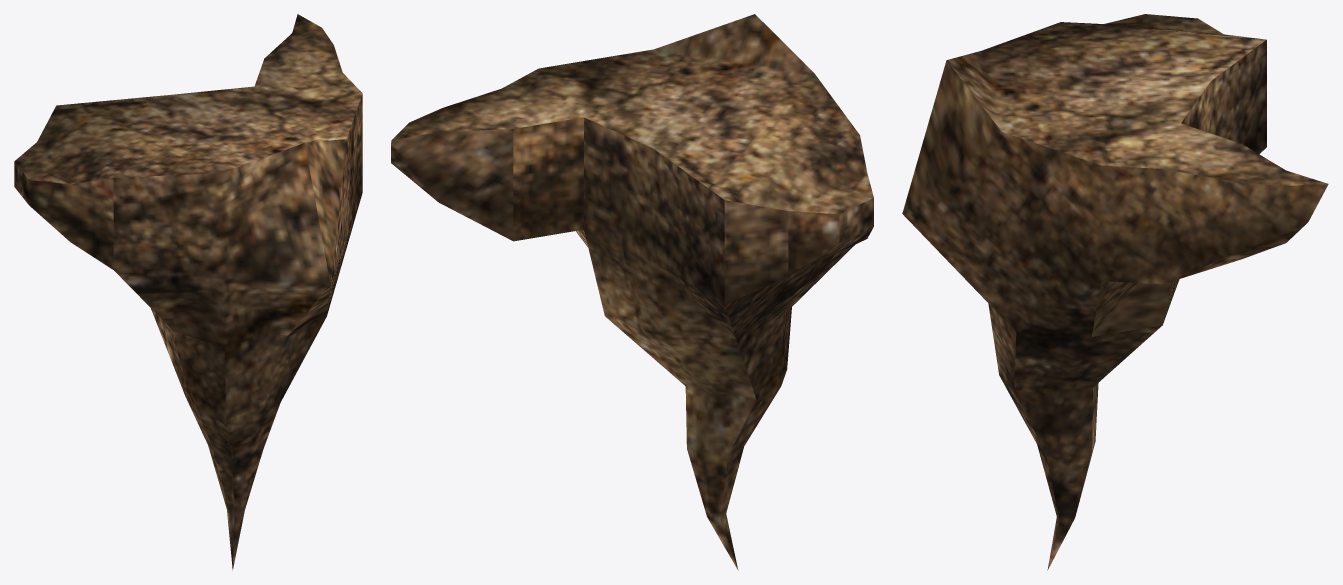
The model's file is mysthomeRock1.obj.
3 views of the same model, side by side, from view 1: azimuth 30°, elevation 25°; view 2: azimuth 150°, elevation 25°; view 3: azimuth 270°, elevation 25° (orthographic). The views are drawn at different scales.
Visible parts, largest first — view 1: Landsmaller_Cube.027; view 2: Landsmaller_Cube.027; view 3: Landsmaller_Cube.027.
Part boxes in pixels (x1=…): Landsmaller_Cube.027: x1=14, y1=14, x2=362, y2=570; Landsmaller_Cube.027: x1=391, y1=14, x2=873, y2=570; Landsmaller_Cube.027: x1=902, y1=14, x2=1328, y2=570.
Size of the model in its own units: 3.76 by 4.57 by 3.35.
Materials: 1 (1 with a texture image).
